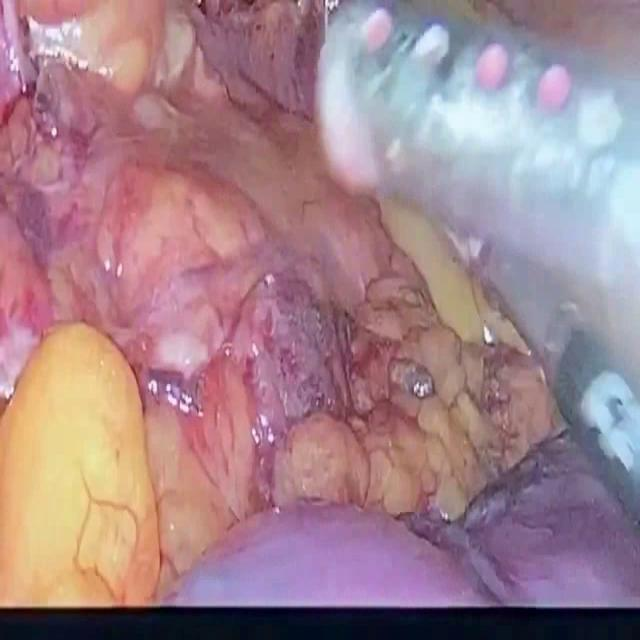surgical-area: (0, 0, 640, 608)
surgical-tool: (306, 7, 640, 540)
